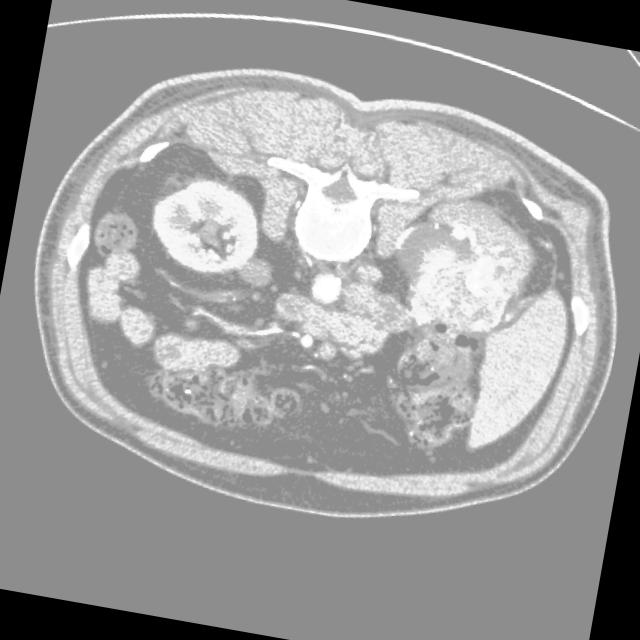TUMOR: (121, 154, 583, 375)
